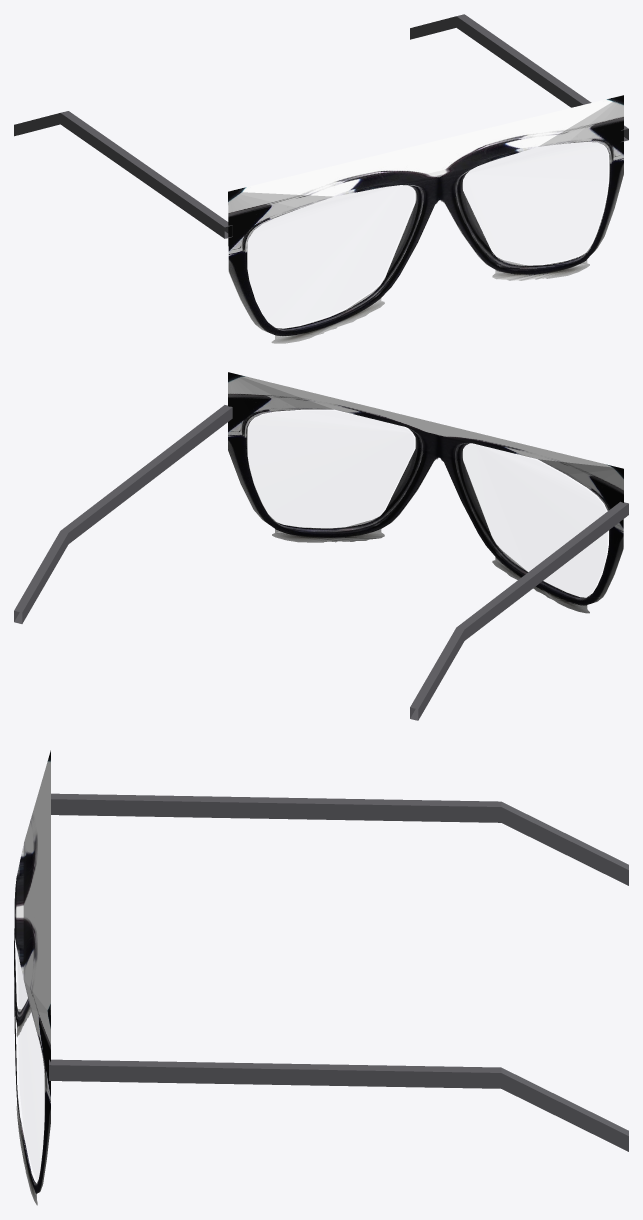
Rendered from nyc4u-bqe-2_black.glb.
The picture shows the model from 3 angles, top to bottom: view 1: azimuth 30°, elevation 25°; view 2: azimuth 150°, elevation 25°; view 3: azimuth 270°, elevation 25°; orthographic projection. The views are drawn at different scales.
Visible parts, largest first — view 1: frame_front, temple_viewer_left, temple_viewer_right; view 2: frame_front, temple_viewer_right, temple_viewer_left; view 3: temple_viewer_right, temple_viewer_left, frame_front.
Boxes of the visible parts, box(x1,y1,x2,y2) form: frame_front: box(228, 95, 623, 343); temple_viewer_left: box(14, 111, 232, 238); temple_viewer_right: box(410, 14, 628, 141); frame_front: box(228, 372, 623, 613); temple_viewer_right: box(14, 405, 232, 623); temple_viewer_left: box(410, 501, 628, 720); temple_viewer_right: box(49, 1059, 628, 1151); temple_viewer_left: box(51, 793, 628, 885); frame_front: box(14, 750, 50, 1205).
Size of the model in its own units: 0.1473 by 0.0557 by 0.141.
3 materials, 2 textured.
